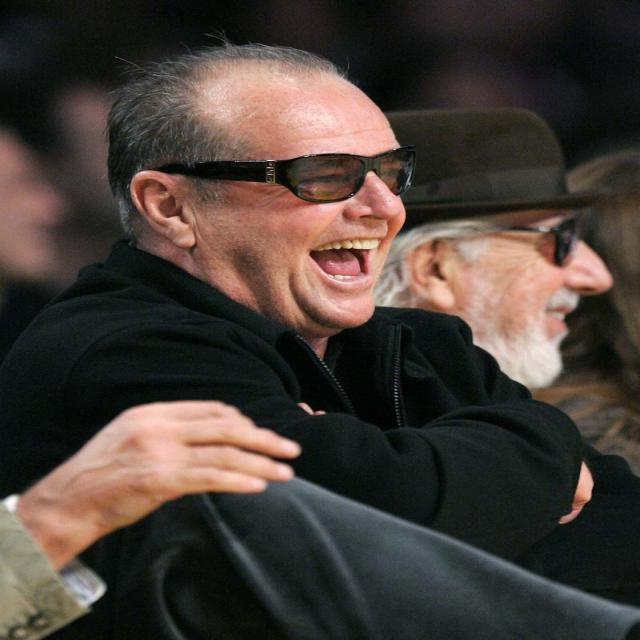no-earmuff: (115, 156, 232, 268), (397, 232, 480, 326)
